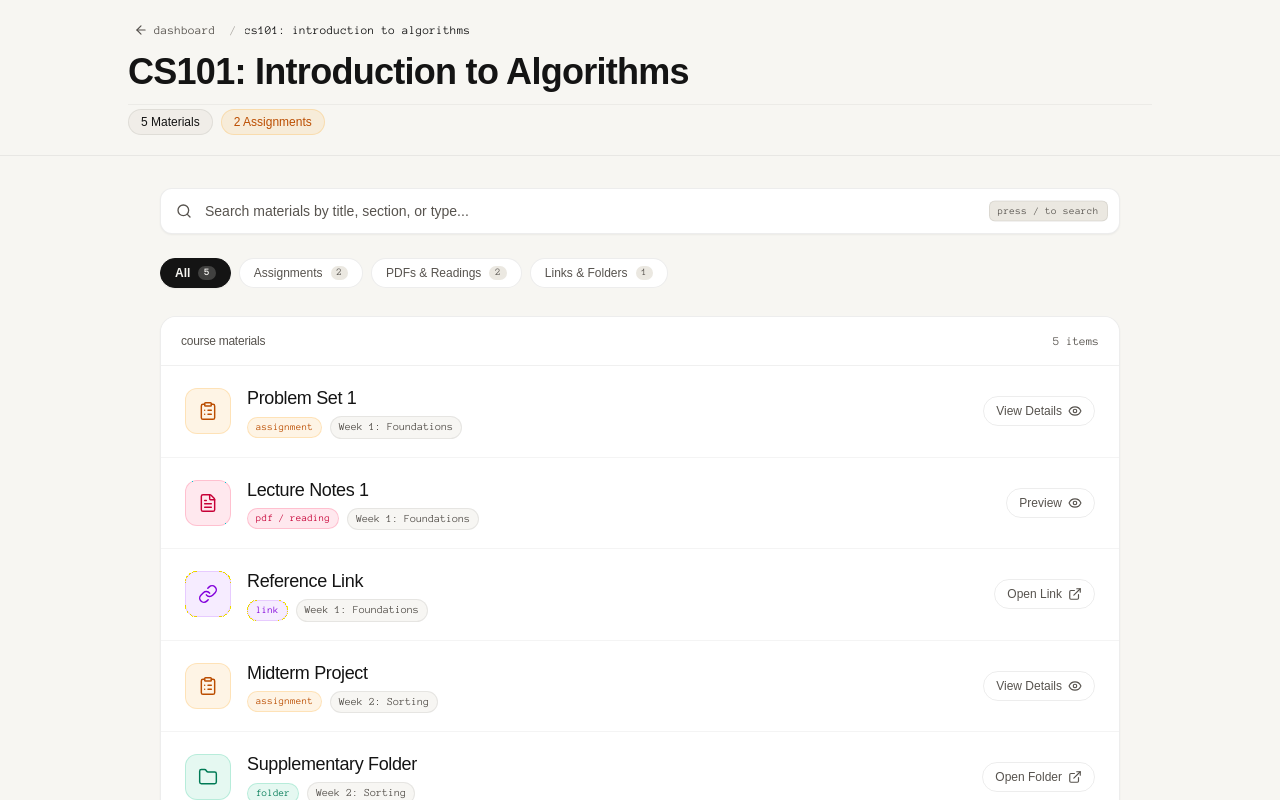
Scenario: Course Experience & Unified Resource Filtering (Task 5) › renders friendly empty state with Clear search & filters reset button when no results match
Expected: the heading "Problem Set 1" is shown, [247,388,356,408]
Type "nonexistent query 12345" into the field named "search course materials".
click(640, 211); type("nonexistent query 12345")  # box [160,188,1120,234]
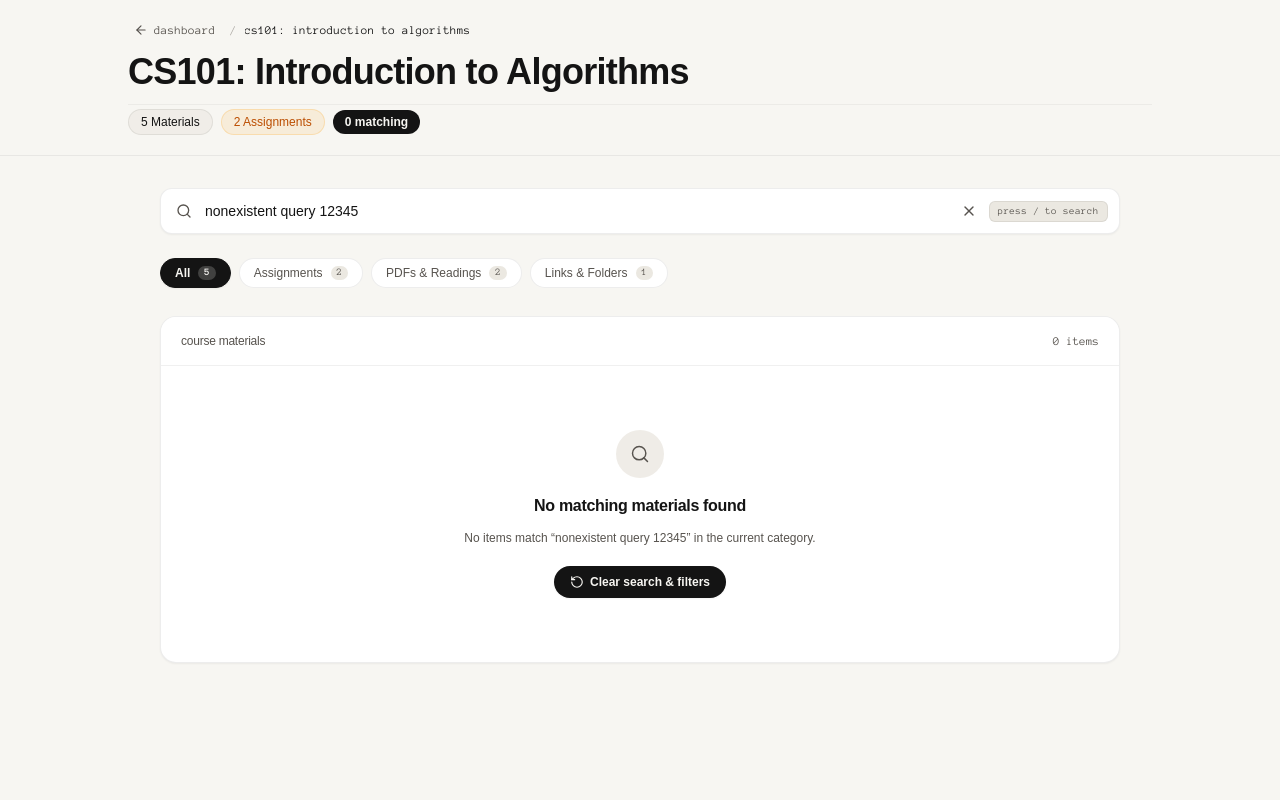
Now the message is shown, box [464,430,816,598]
Now the heading "No matching materials found" is shown, box [534,494,746,518]
Now the button "Clear search & filters" is shown
Click the button "Clear search & filters".
click(640, 582)  # box [554,566,726,598]
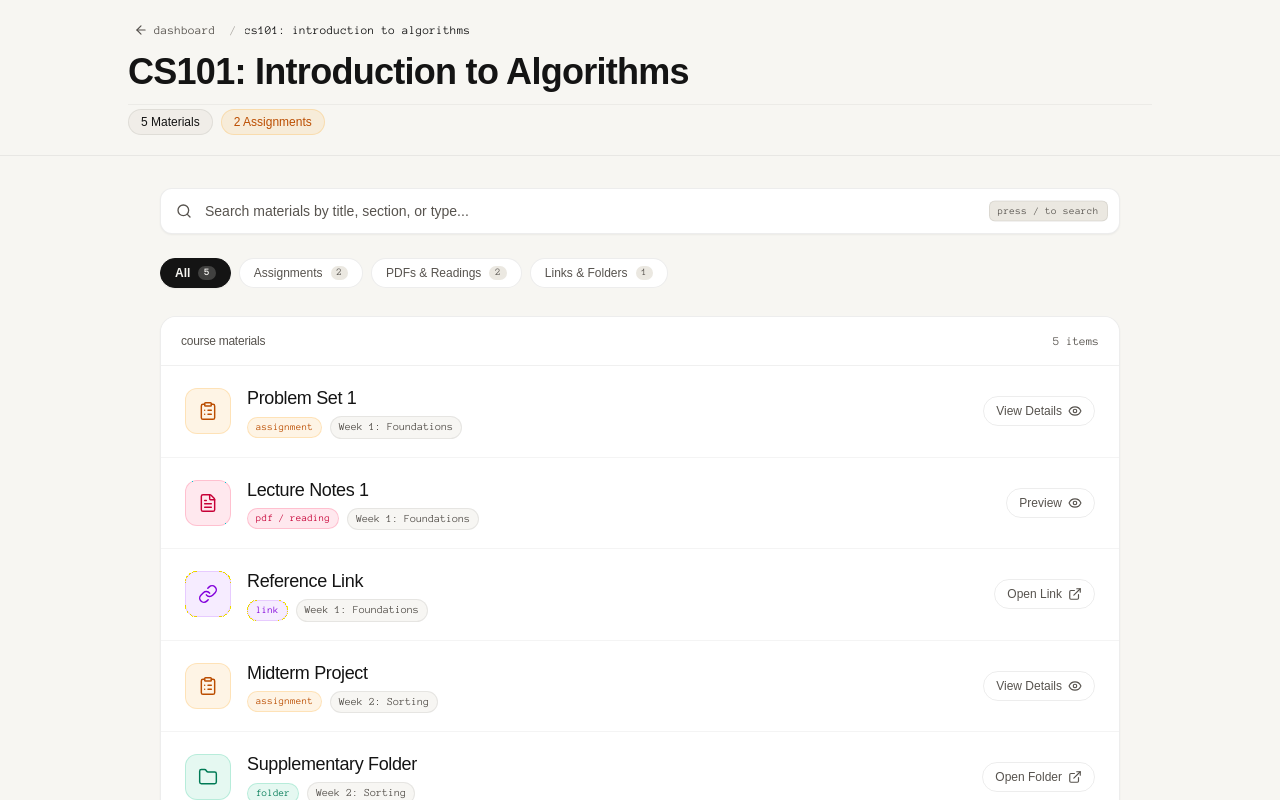
Now the field named "search course materials" is empty, box [160,188,1120,234]
Now the heading "Problem Set 1" is shown, box [247,388,356,408]
Now the heading "Lecture Notes 1" is shown, box [247,480,369,500]
